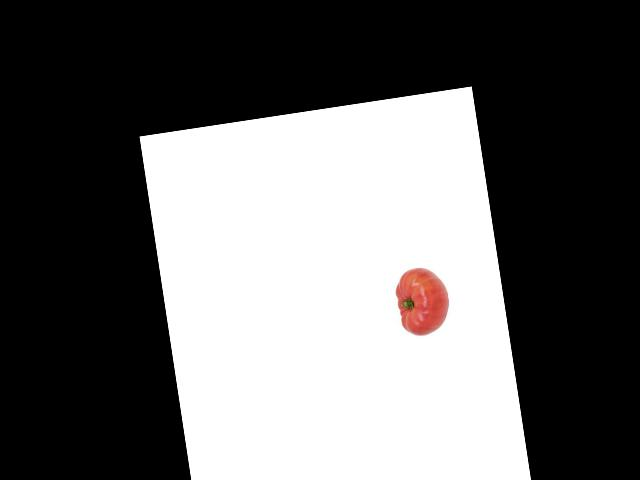tomato: (393, 263, 453, 337)
